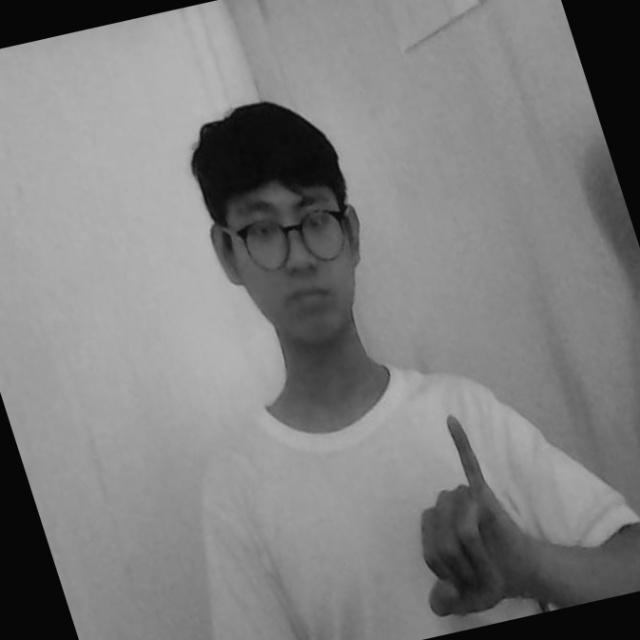I: (392, 409, 526, 624)
